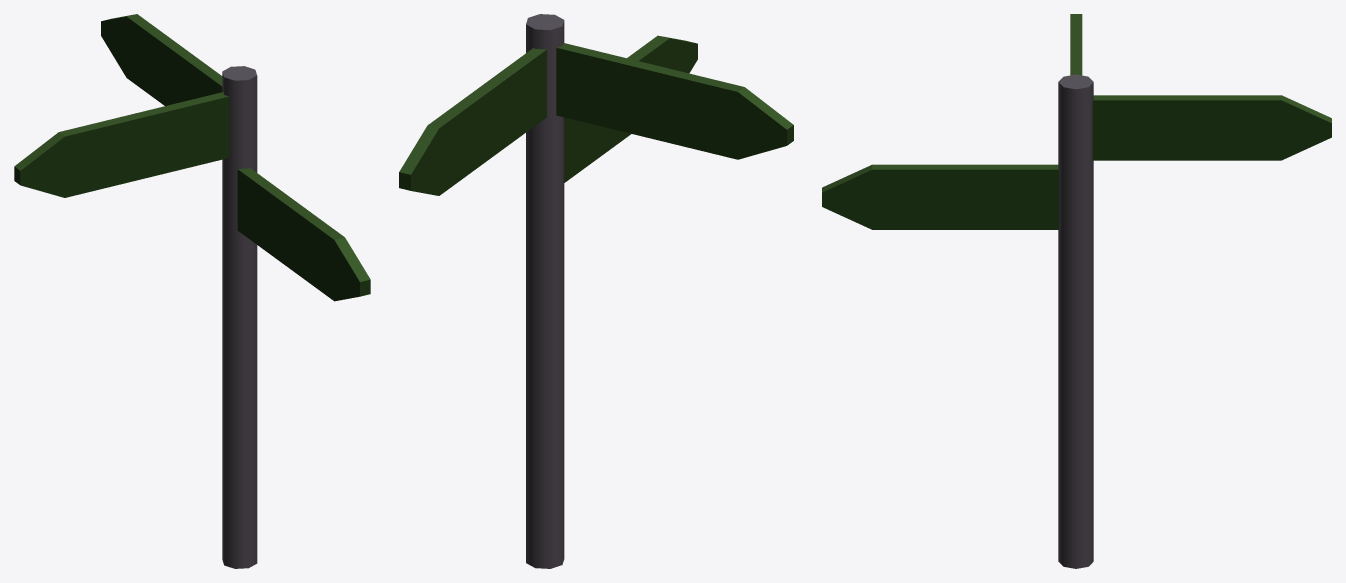
The model's file is Sign_01.fbx.
The picture shows the model from 3 angles, left to right: view 1: azimuth 30°, elevation 25°; view 2: azimuth 150°, elevation 25°; view 3: azimuth 270°, elevation 25°; orthographic projection. The views are drawn at different scales.
Parts seen in each view (by area): view 1: Sign_01; view 2: Sign_01; view 3: Sign_01.
Part boxes in pixels (left/top/right/bottom): Sign_01: left=14, top=14, right=370, bottom=568; Sign_01: left=399, top=14, right=793, bottom=568; Sign_01: left=822, top=14, right=1331, bottom=568.
Size of the model in its own units: 173 by 338 by 326.
